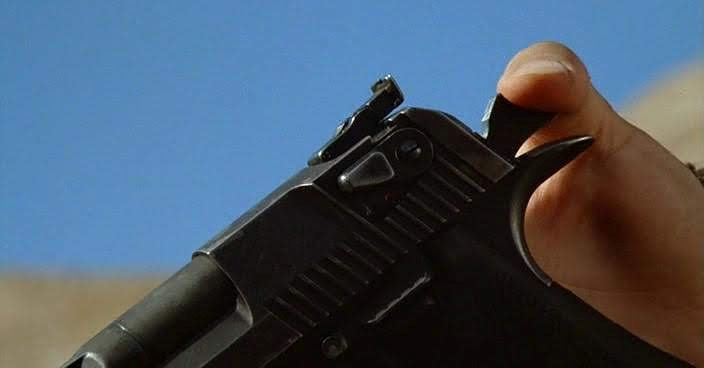gun: (57, 74, 656, 361)
